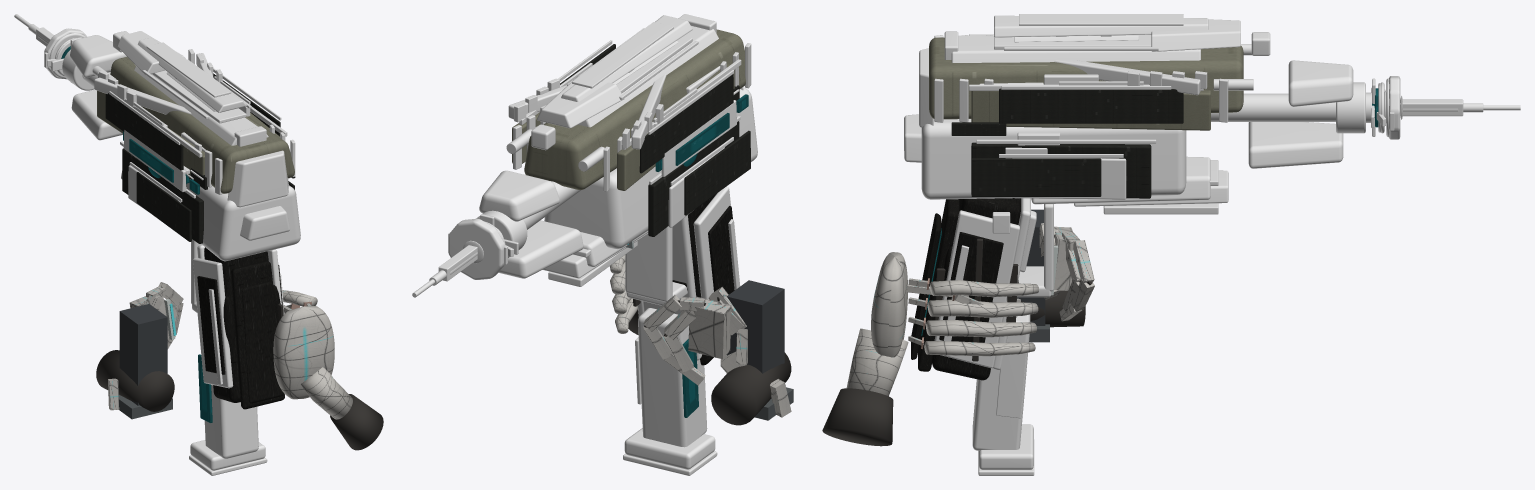
Rendered from hand-sidearm-onehand-v1.glb.
3 renders of one model, left to right at view 1: azimuth 30°, elevation 25°; view 2: azimuth 150°, elevation 25°; view 3: azimuth 270°, elevation 25°, orthographic. The views are drawn at different scales.
Parts seen in each view (by area): view 1: sidearm_slide, right_sidearm_blueprint_continuous_palm_shell, sidearm_receiver, sidearm_aesthetic_grip_backstrap_ergonomic_curve, fresh_magazine, sidearm_magazine, sidearm_rear_charge_cap, left_reload_helper_wrist_sleeve, sidearm_grip_backstrap, sidearm_aesthetic_slide_satin_side_plate_l, sidearm_aesthetic_receiver_sculpted_side_plane_l, sidearm_grip_left_panel (+27 smaller); view 2: sidearm_slide, sidearm_receiver, sidearm_magazine, fresh_magazine, left_reload_helper_wrist_sleeve, sidearm_trigger_guard_front, sidearm_aesthetic_slide_satin_side_plate_l, sidearm_muzzle_shroud_top, sidearm_muzzle_shroud_lower, sidearm_aesthetic_receiver_sculpted_side_plane_l, sidearm_premium_compensator_outer_crown, left_reload_helper_robot_dorsal_palm_shell (+38 smaller); view 3: sidearm_slide, sidearm_receiver, sidearm_aesthetic_slide_satin_side_plate_r, sidearm_aesthetic_receiver_sculpted_side_plane_r, sidearm_muzzle_shroud_lower, sidearm_slide_top_spine, right_sidearm_visible_wrist_sleeve, right_sidearm_blueprint_continuous_palm_shell, sidearm_magazine, sidearm_slide_right_layer, sidearm_receiver_right_skin, sidearm_muzzle_shroud_top (+34 smaller).
Part boxes in pixels (x1,y1,x2,y2): sidearm_slide: (97, 57, 295, 194); right_sidearm_blueprint_continuous_palm_shell: (273, 306, 334, 399); sidearm_receiver: (186, 179, 300, 261); sidearm_aesthetic_grip_backstrap_ergonomic_curve: (242, 282, 284, 403); fresh_magazine: (119, 304, 167, 405); sidearm_magazine: (204, 385, 258, 458); sidearm_rear_charge_cap: (227, 150, 288, 207); left_reload_helper_wrist_sleeve: (96, 350, 174, 411); sidearm_grip_backstrap: (231, 261, 284, 409); sidearm_aesthetic_slide_satin_side_plate_l: (105, 93, 183, 170); sidearm_aesthetic_receiver_sculpted_side_plane_l: (136, 172, 191, 241); sidearm_grip_left_panel: (193, 258, 233, 388); sidearm_slide: (513, 29, 751, 191); sidearm_receiver: (544, 87, 757, 249); sidearm_magazine: (638, 308, 707, 447); fresh_magazine: (726, 280, 784, 373); left_reload_helper_wrist_sleeve: (711, 352, 791, 425); sidearm_trigger_guard_front: (625, 226, 672, 301); sidearm_aesthetic_slide_satin_side_plate_l: (639, 74, 733, 173); sidearm_muzzle_shroud_top: (479, 170, 559, 221); sidearm_muzzle_shroud_lower: (498, 220, 583, 278); sidearm_aesthetic_receiver_sculpted_side_plane_l: (684, 130, 750, 215); sidearm_premium_compensator_outer_crown: (448, 218, 505, 279); left_reload_helper_robot_dorsal_palm_shell: (688, 297, 731, 359); sidearm_slide: (929, 35, 1243, 122); sidearm_receiver: (921, 119, 1186, 199); sidearm_aesthetic_slide_satin_side_plate_r: (999, 88, 1183, 123); sidearm_aesthetic_receiver_sculpted_side_plane_r: (971, 158, 1101, 196); sidearm_muzzle_shroud_lower: (1248, 122, 1343, 168); sidearm_slide_top_spine: (951, 35, 1200, 62); right_sidearm_visible_wrist_sleeve: (822, 388, 893, 446); right_sidearm_blueprint_continuous_palm_shell: (871, 252, 907, 357); sidearm_magazine: (972, 314, 1030, 450); sidearm_slide_right_layer: (971, 90, 1210, 130); sidearm_receiver_right_skin: (971, 142, 1151, 198); sidearm_muzzle_shroud_top: (1288, 60, 1353, 106).
Bounding box in the file's own units: 0.8844 × 1.52 × 2.18.
Materials: 26 (5 with a texture image).
